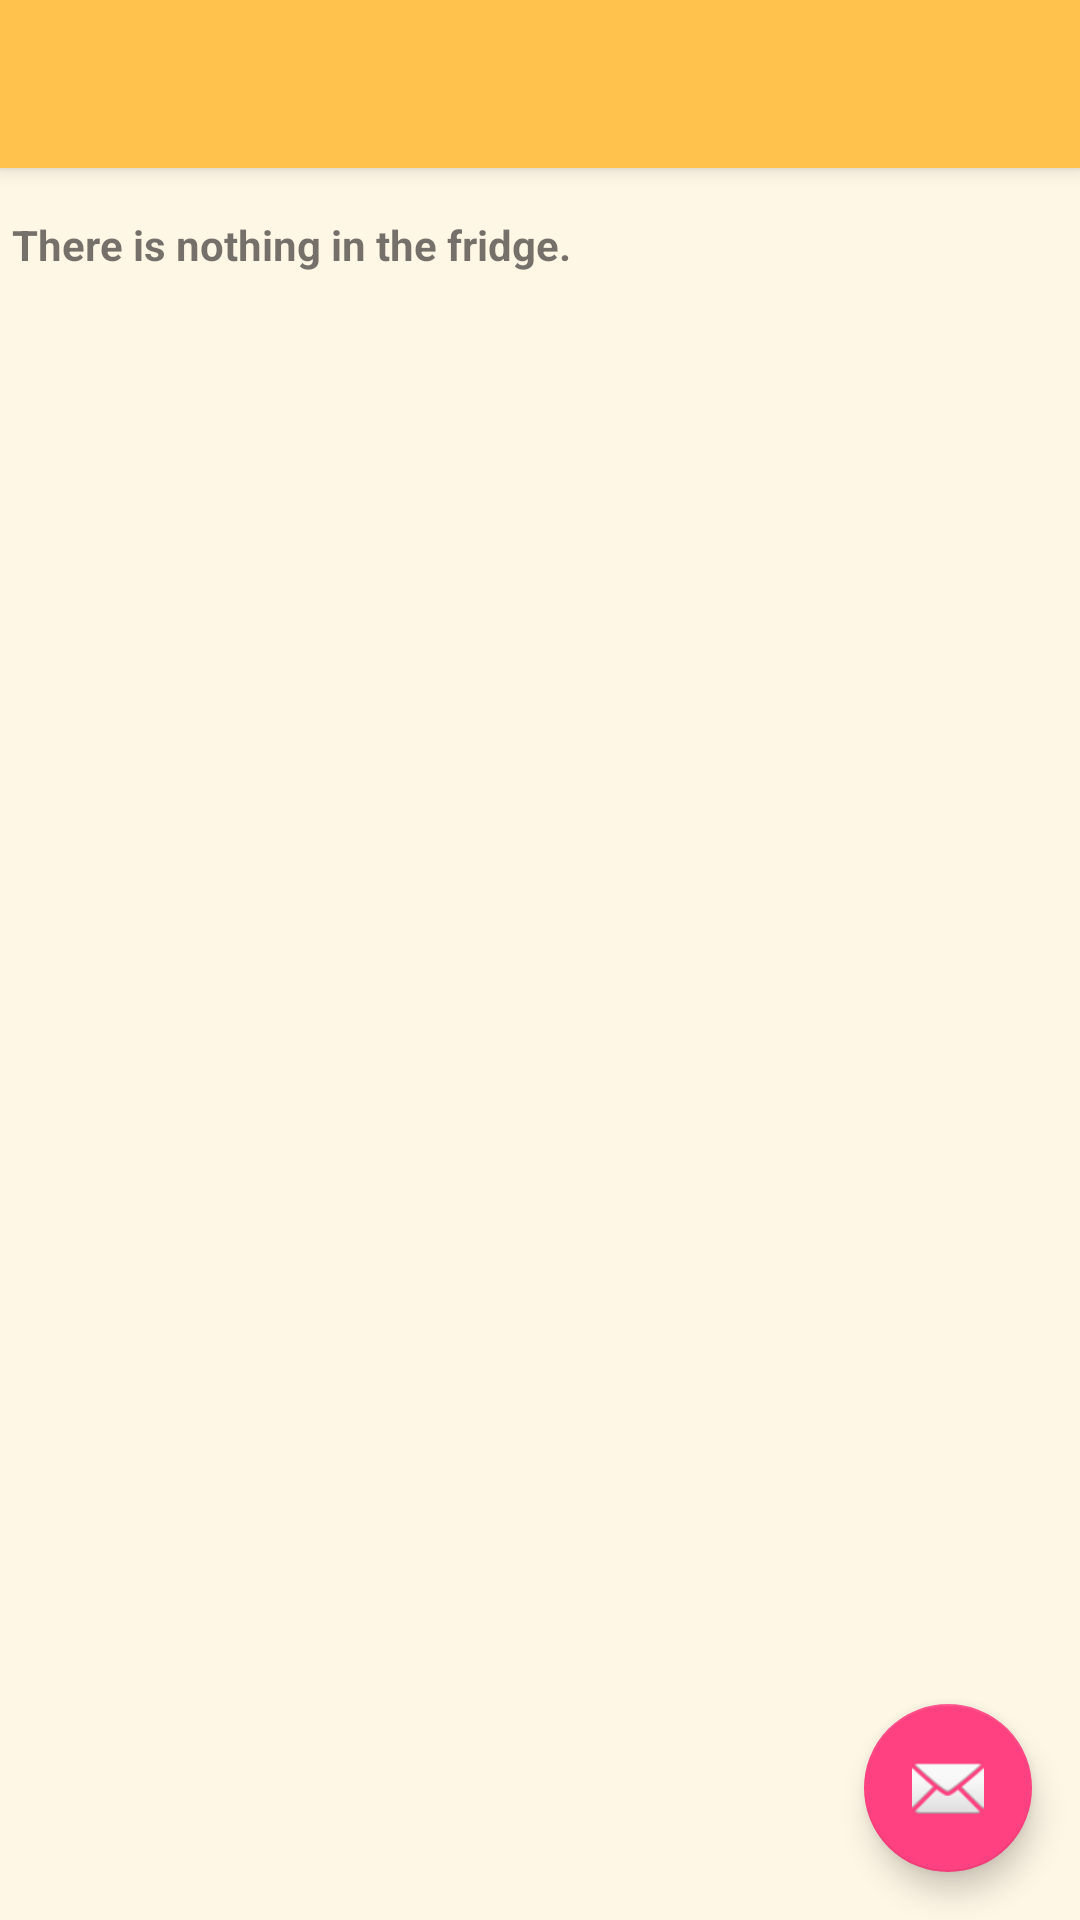

Screen size 1080 × 1920. Icon name, then its box in pixels as (x1, y1, x2, y2):
email: (864, 1704, 1032, 1872)
